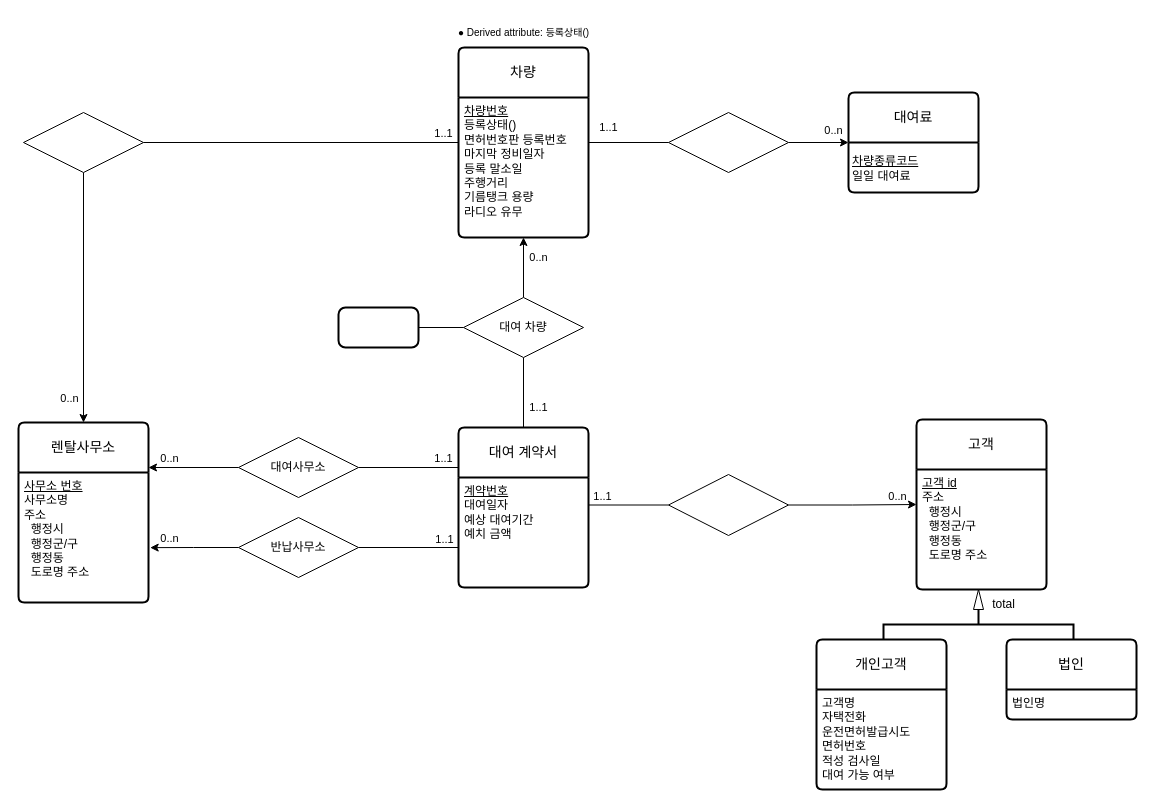
This 1154x807 diagram has some shape labels left out. The centre of each missing label's shape, as x and y in pixels:
대여 고객: (728,505)
반납 일자: (378,327)
보유 차고지: (83,142)
요금: (728,142)
